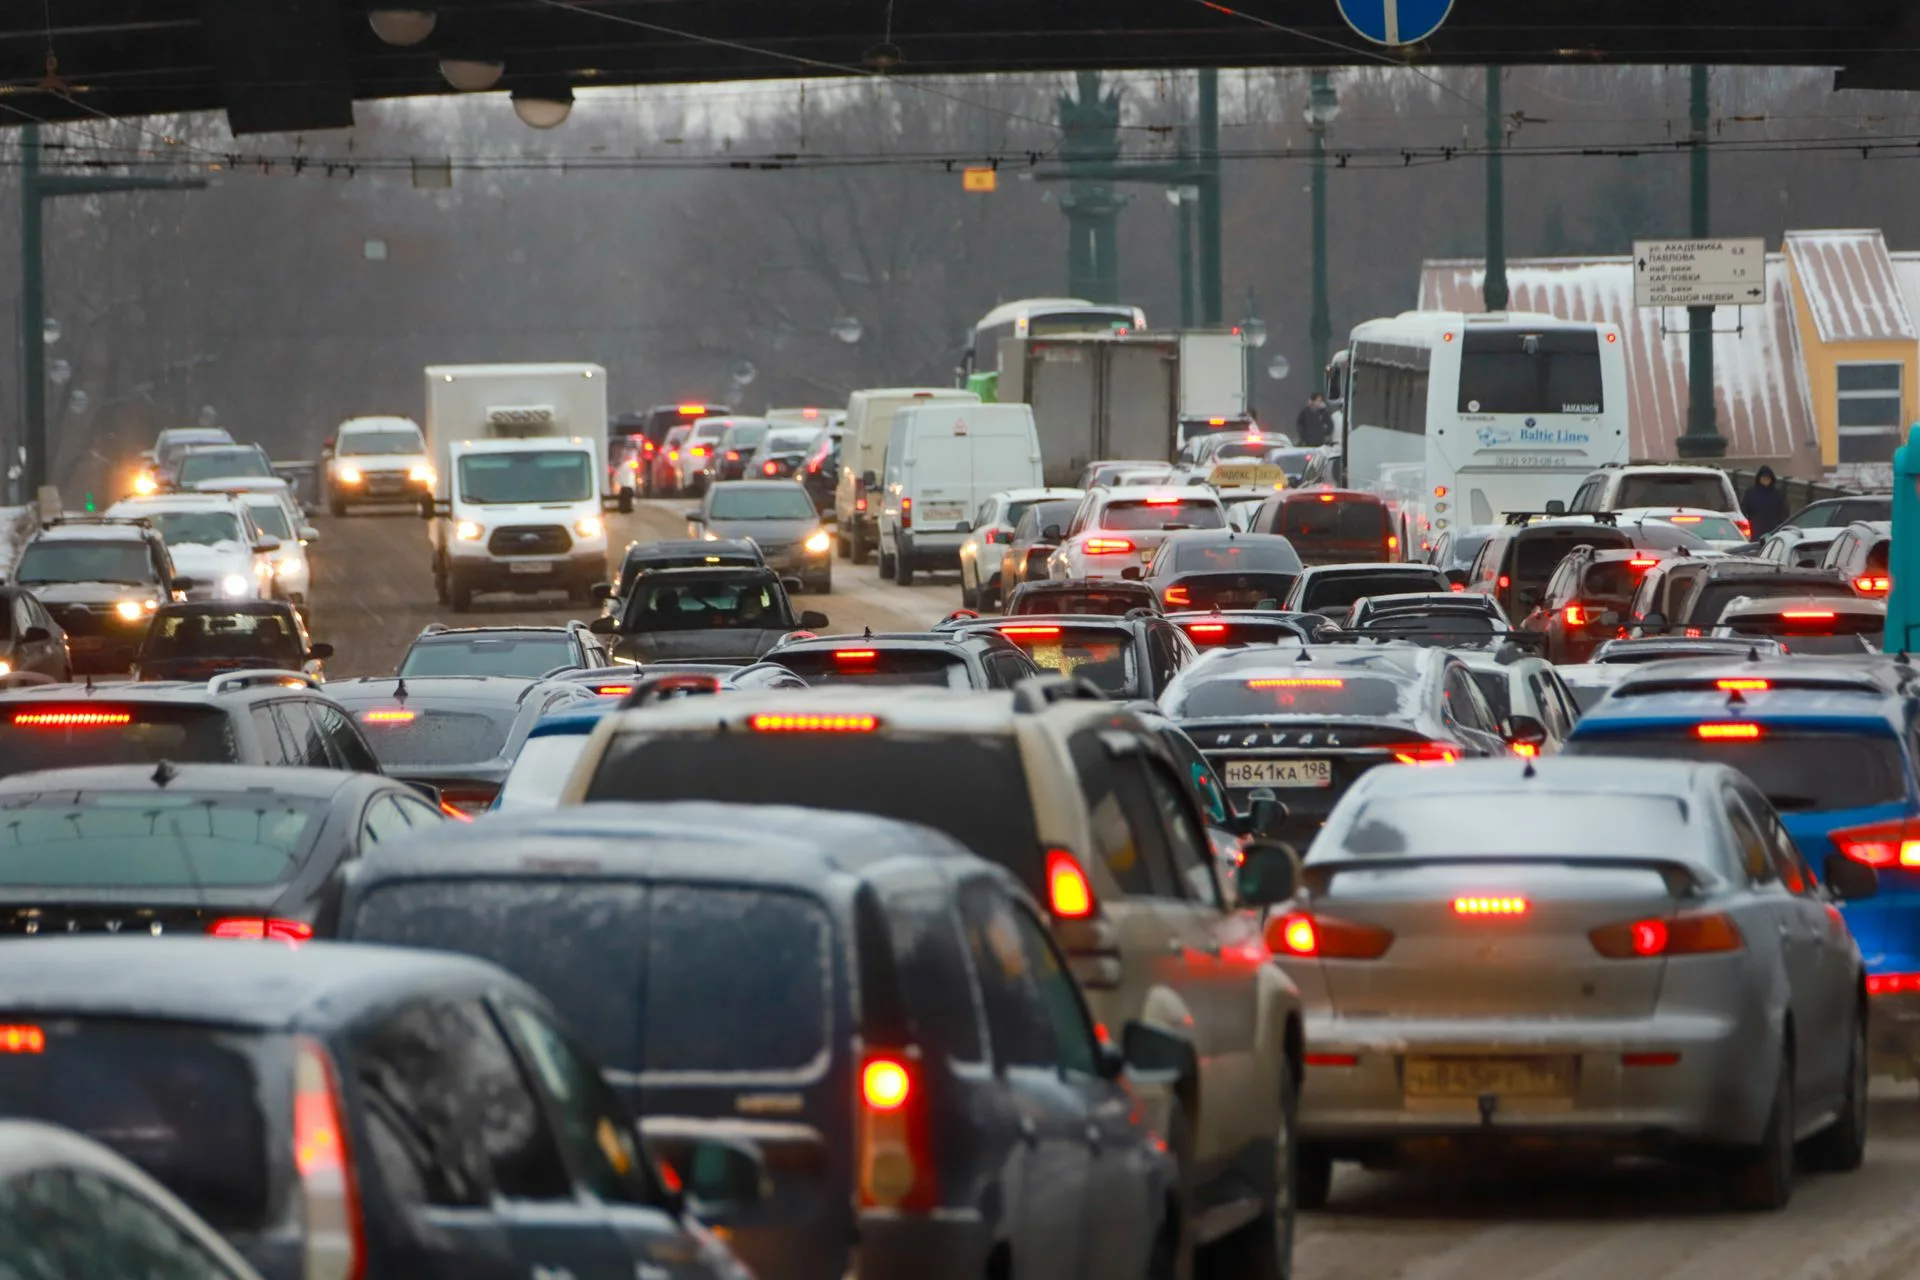Car: (560, 673, 1304, 1280), (331, 800, 1193, 1280), (1261, 754, 1884, 1216), (0, 936, 777, 1280), (1554, 689, 1920, 1091), (1156, 646, 1549, 856), (0, 761, 456, 940), (1327, 310, 1631, 564), (0, 669, 443, 807), (417, 361, 634, 614), (0, 1116, 264, 1280), (320, 676, 594, 823), (1116, 701, 1284, 904), (863, 401, 1044, 586), (1316, 633, 1583, 754), (9, 520, 193, 674), (821, 389, 980, 566), (999, 334, 1179, 486), (929, 609, 1201, 706), (589, 566, 829, 666), (1444, 511, 1636, 631), (954, 297, 1149, 403), (1520, 544, 1690, 664), (100, 489, 280, 600), (590, 536, 803, 627), (753, 626, 1041, 690), (120, 597, 333, 683), (1043, 486, 1234, 580), (684, 480, 840, 591), (956, 487, 1091, 613), (487, 694, 626, 813), (1643, 561, 1857, 637), (1120, 530, 1303, 613), (1253, 561, 1453, 629), (1609, 653, 1920, 696), (1601, 554, 1787, 626), (394, 619, 610, 679), (1099, 327, 1247, 413), (1246, 489, 1403, 569), (324, 413, 427, 516), (233, 493, 319, 614), (1710, 596, 1886, 654), (1724, 496, 1891, 557), (996, 499, 1084, 613), (1163, 603, 1343, 654), (1586, 621, 1793, 664), (541, 661, 810, 694), (1793, 520, 1891, 603), (0, 581, 73, 684), (1541, 516, 1729, 556), (1343, 591, 1511, 633), (1607, 507, 1756, 553), (193, 476, 314, 530), (157, 443, 294, 490), (1003, 579, 1166, 616), (1427, 521, 1504, 593), (137, 426, 236, 480), (1553, 663, 1647, 713), (1177, 411, 1260, 457), (1759, 526, 1849, 567), (133, 463, 173, 494)
